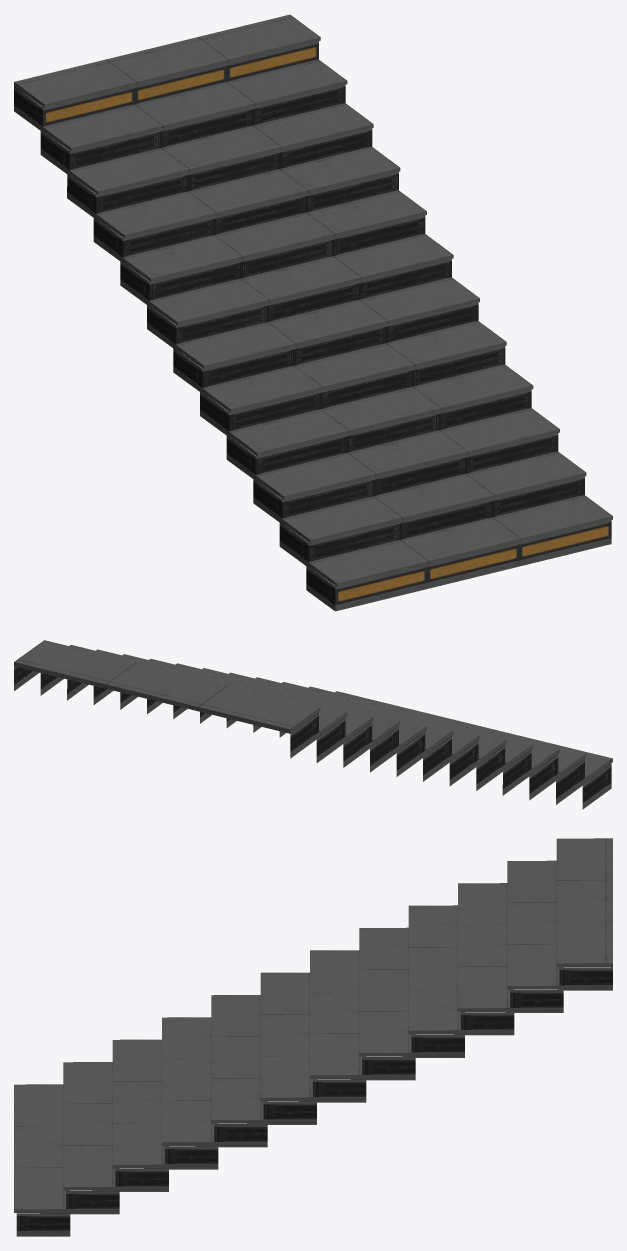
Rendered from Subway_Stairs_Base_L1.fbx.
3 views of the same model, one above another, from view 1: azimuth 30°, elevation 25°; view 2: azimuth 150°, elevation 25°; view 3: azimuth 270°, elevation 25° (orthographic). The views are drawn at different scales.
Parts seen in each view (by area): view 1: polySurface128; view 2: polySurface128; view 3: polySurface128.
Part boxes in pixels (bbox=[...]): polySurface128: bbox=[14, 14, 612, 611]; polySurface128: bbox=[14, 640, 612, 809]; polySurface128: bbox=[14, 838, 612, 1236].
Size of the model in its own units: 200 by 204 by 405.
